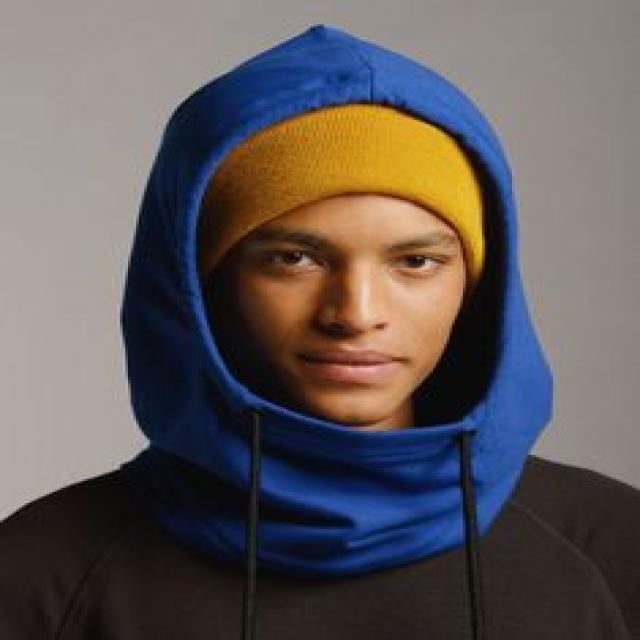4_capucha: (124, 21, 553, 452)
